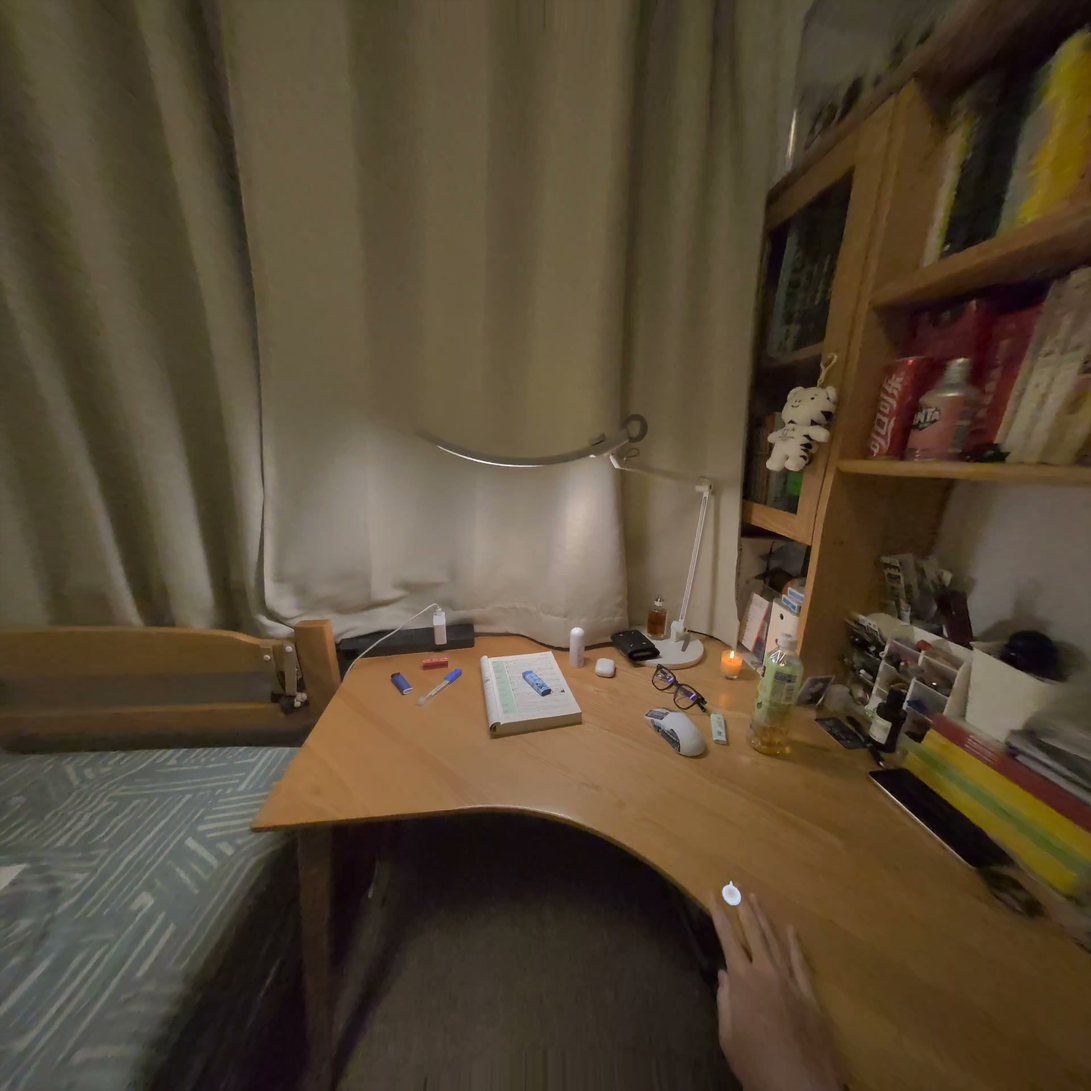lighter: (522, 671, 551, 696)
